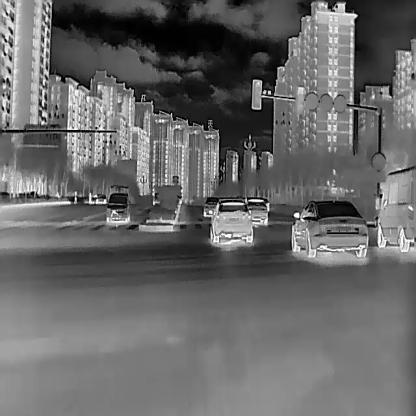car: (289, 198, 369, 259), (371, 164, 415, 251), (208, 197, 254, 244), (105, 192, 129, 223), (244, 197, 268, 224), (202, 197, 220, 217), (90, 192, 106, 204)
